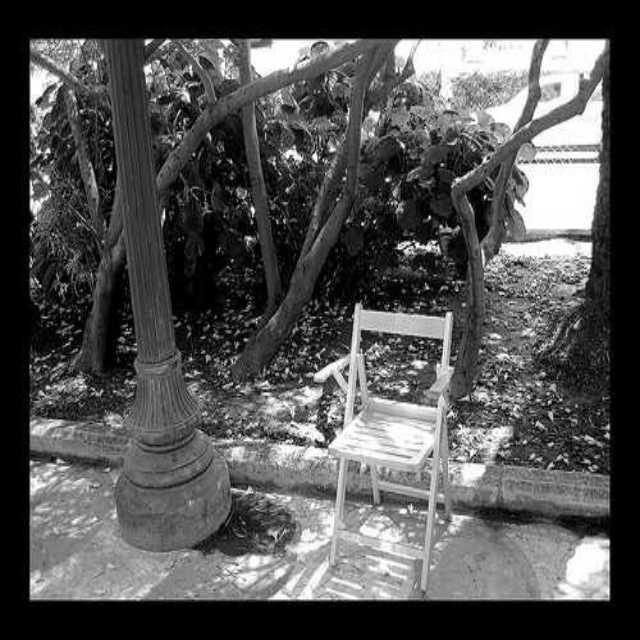obstacle: (329, 303, 452, 591)
